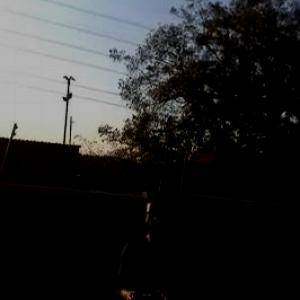follow: (110, 186, 202, 299)
